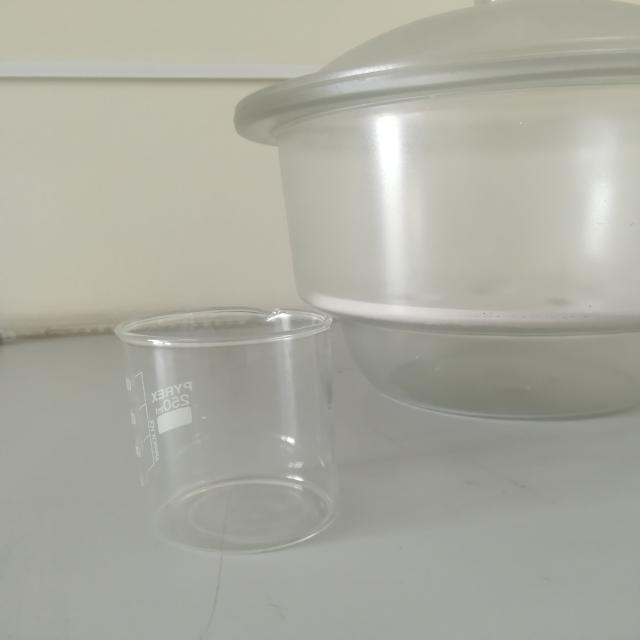Beaker: (106, 283, 385, 586)
